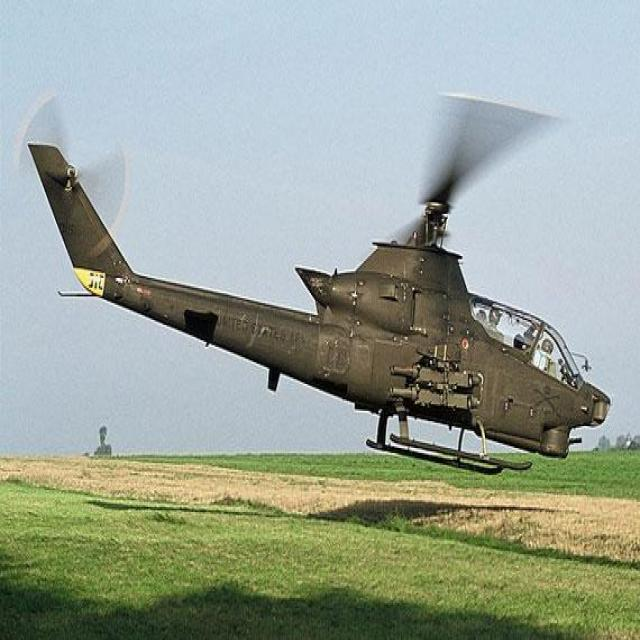MIL_HELO: (10, 80, 640, 486)
